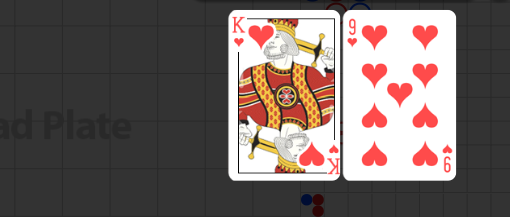9H: (441, 142, 454, 174)
KH: (230, 15, 246, 48)
